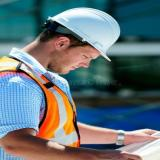Helmet: (48, 8, 122, 62)
Vest: (0, 54, 81, 160)
